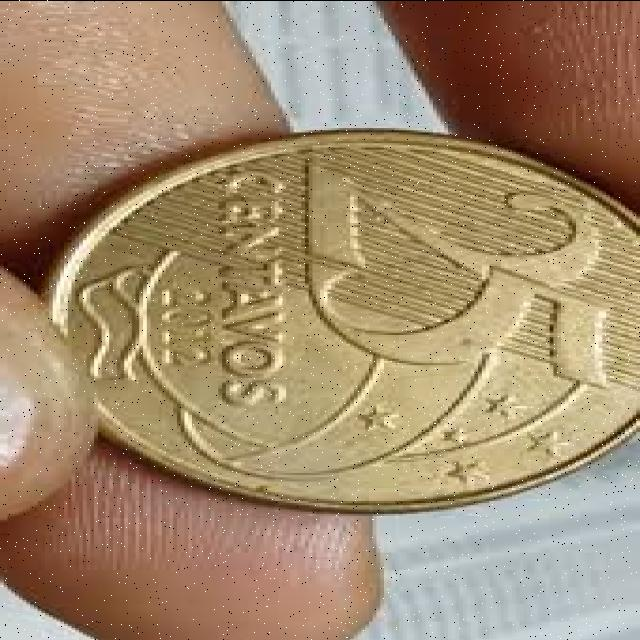25 cent: (84, 132, 626, 506)
